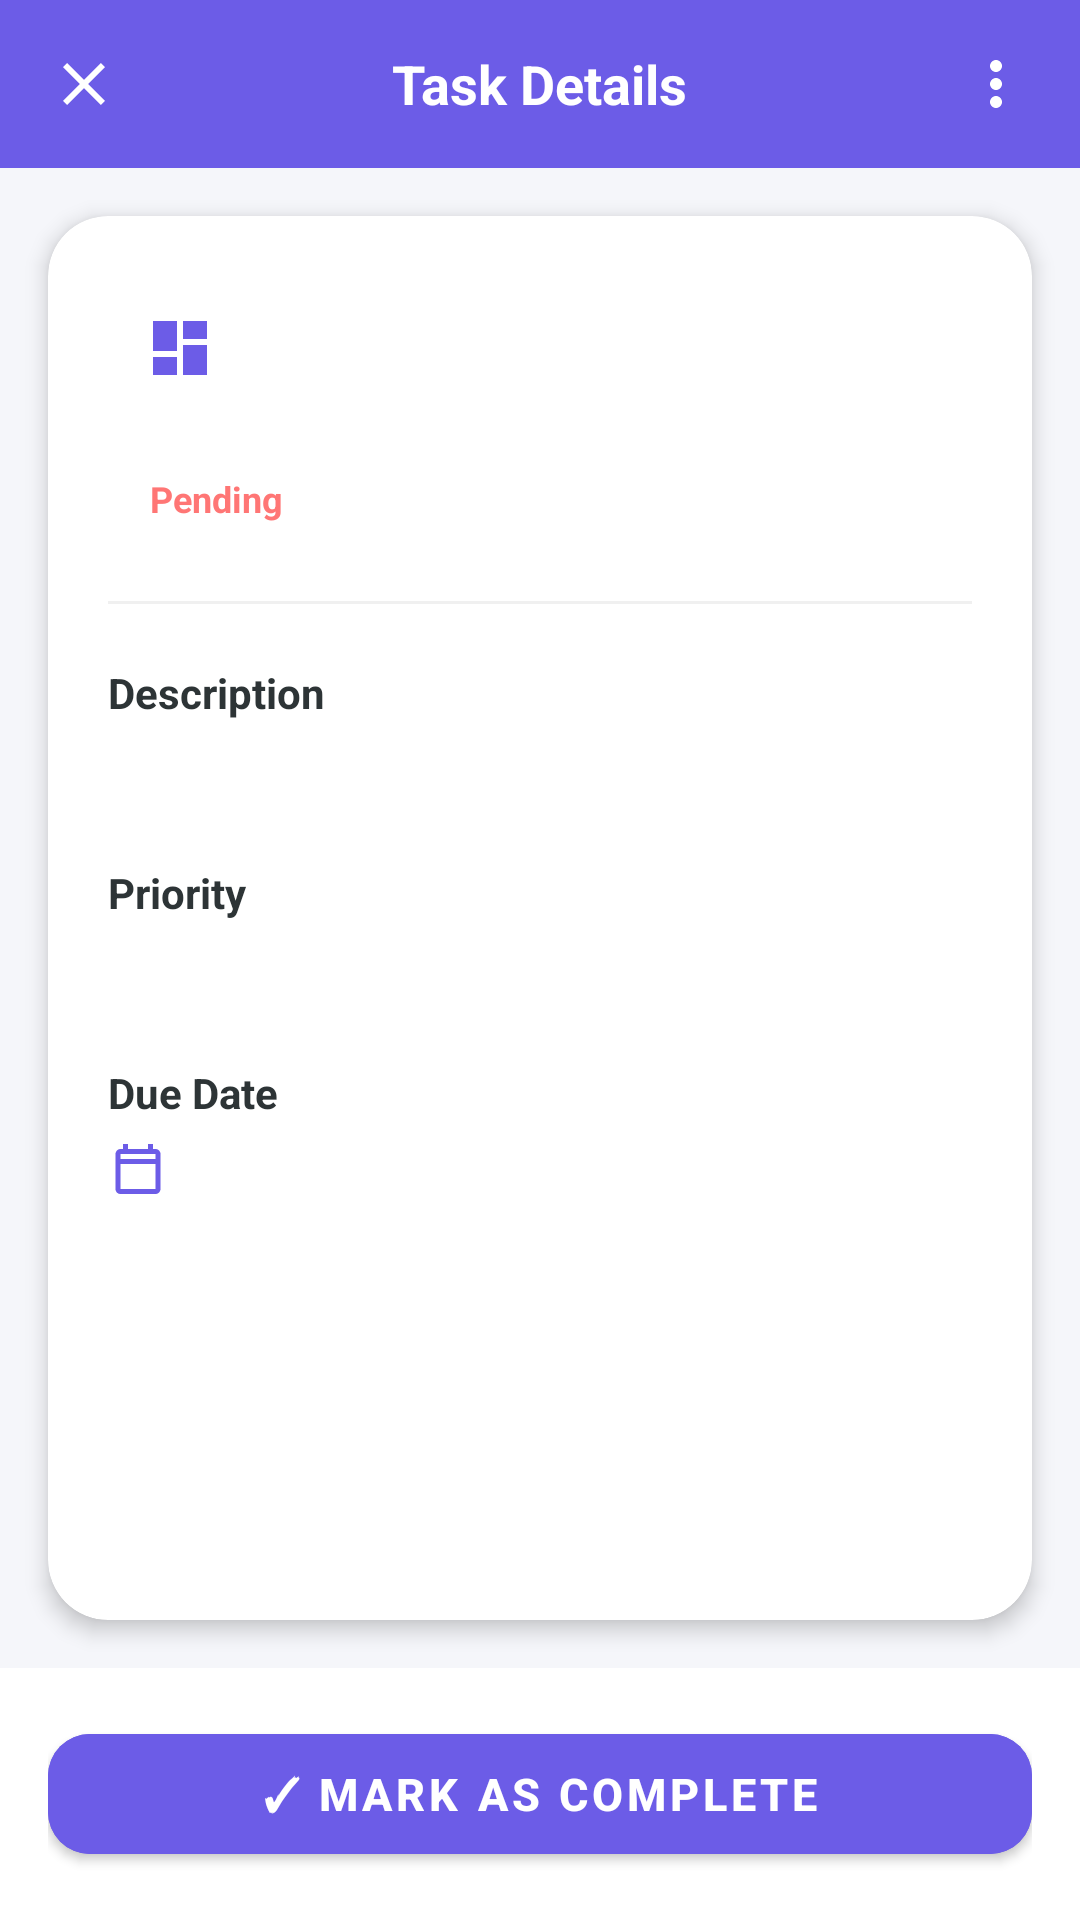

Where icons sit on this 1080w x 1920h app screen, as (x1, y1, x2, y2):
calendar: (115, 1144, 161, 1194)
Options: (990, 60, 1002, 108)
